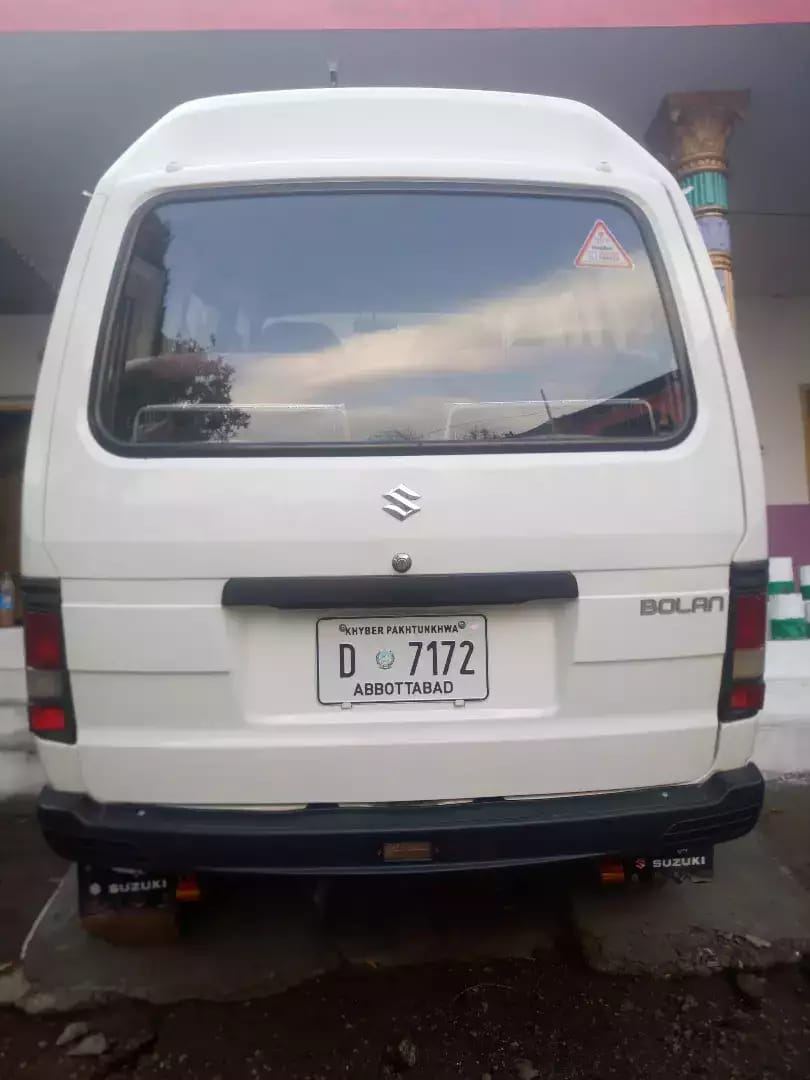license plate: (317, 612, 491, 705)
